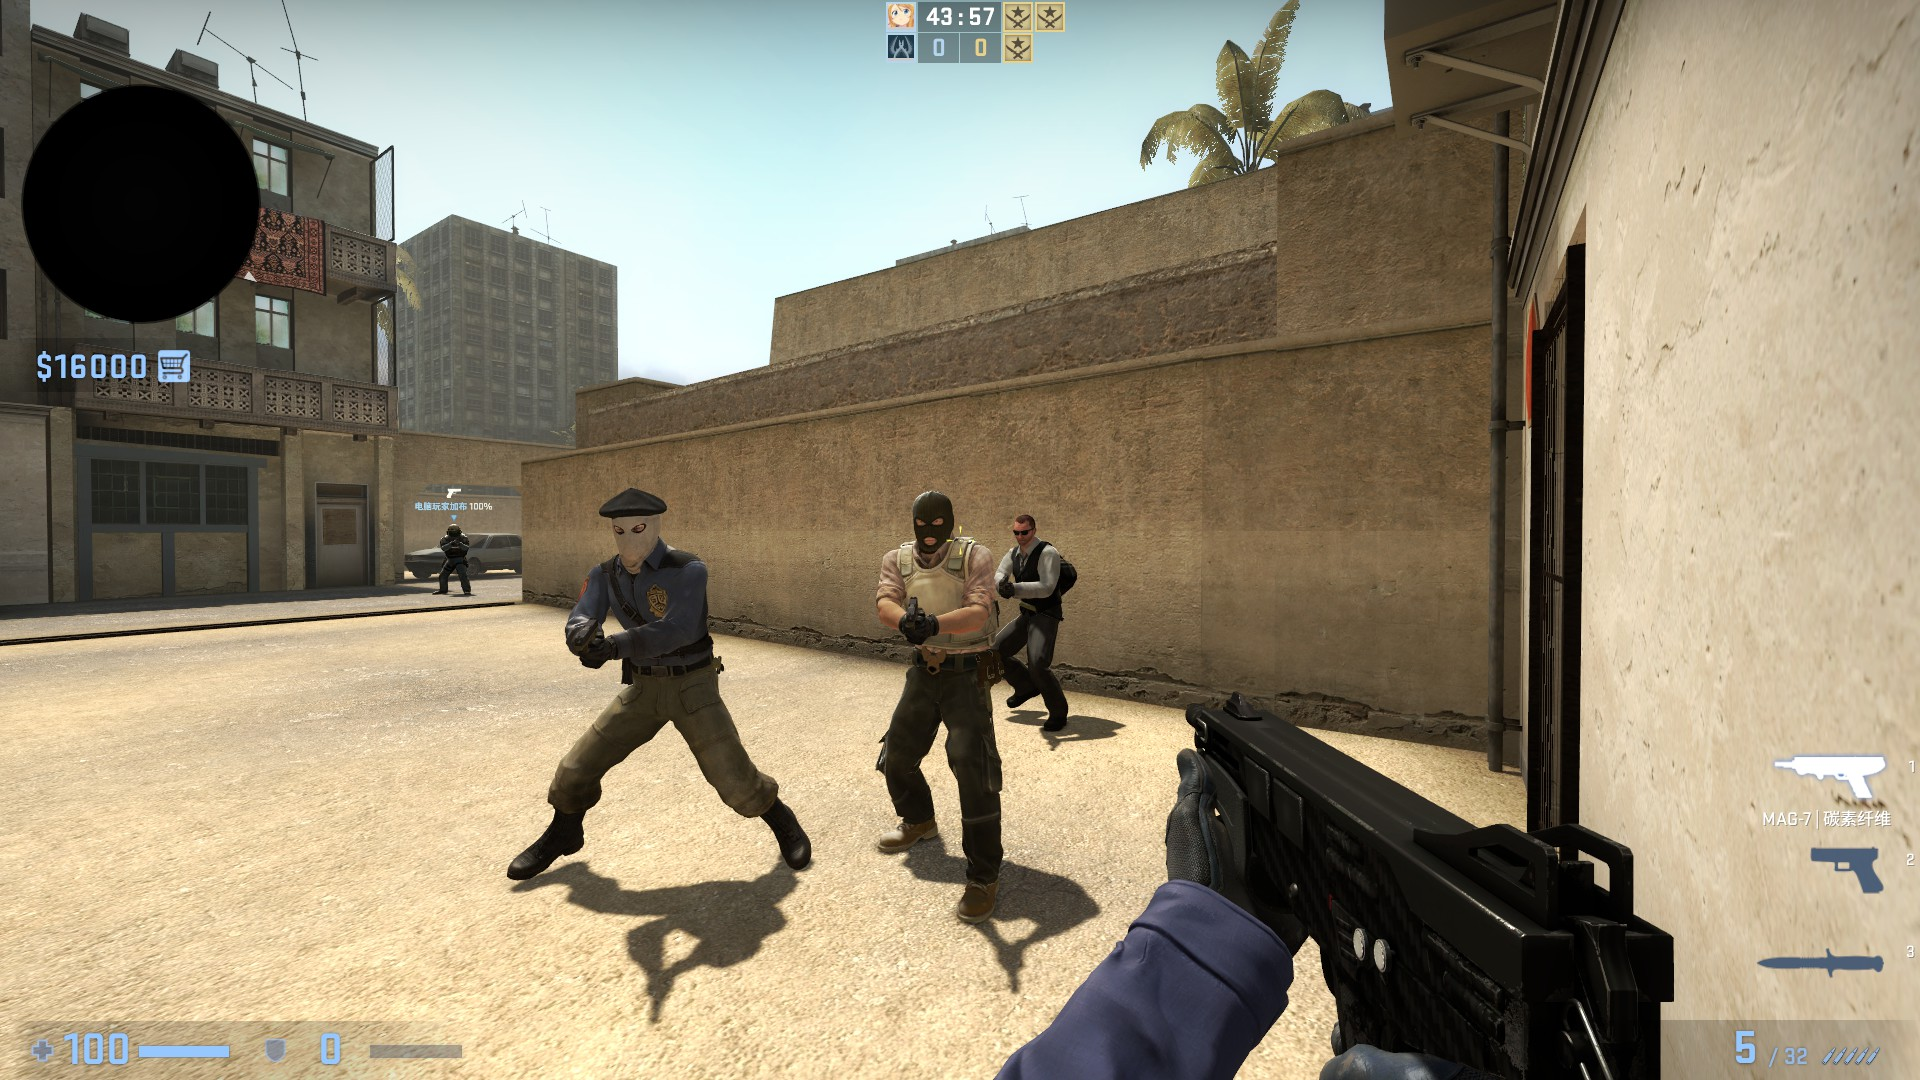head: (600, 486, 670, 569), (900, 490, 964, 563), (1005, 512, 1044, 553), (445, 521, 460, 541)
